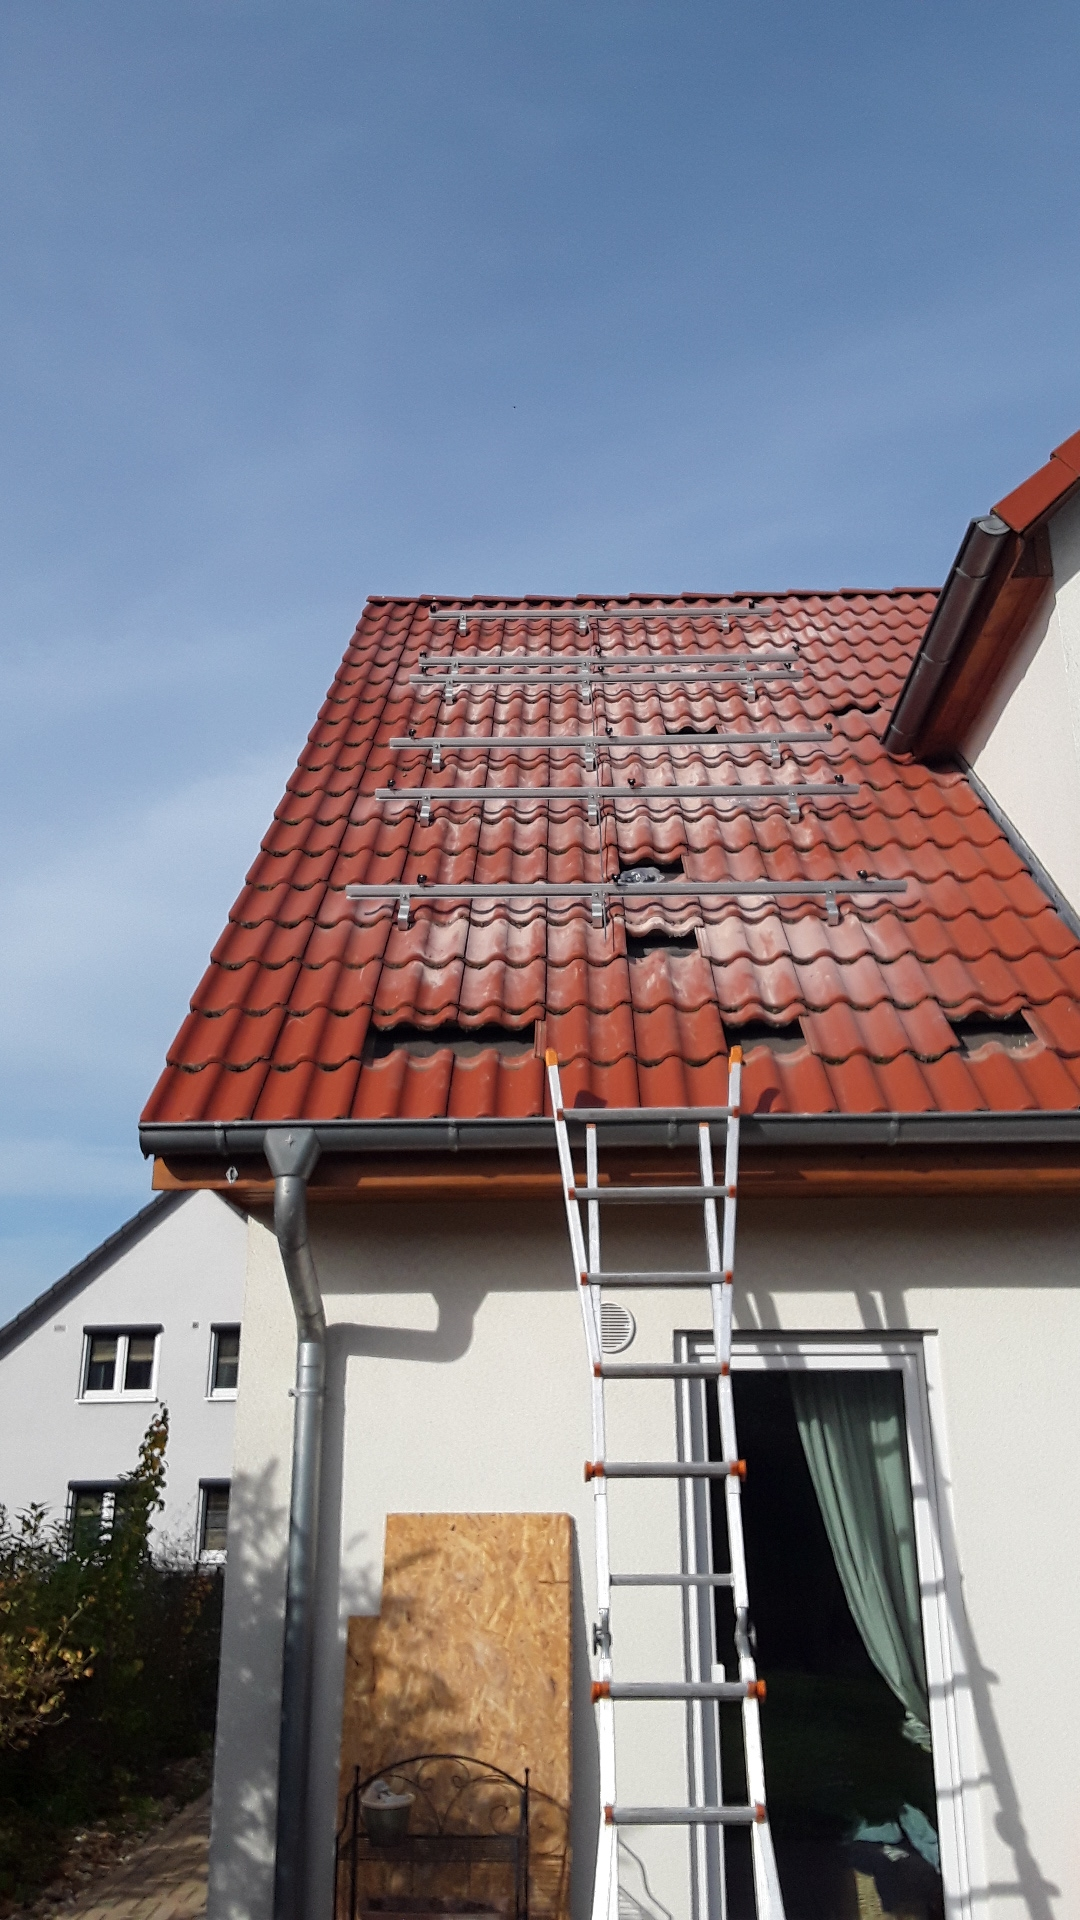hook: (397, 891, 409, 930), (825, 886, 837, 924), (789, 789, 800, 823), (592, 890, 603, 927), (587, 793, 597, 825), (419, 795, 430, 827), (771, 737, 781, 767), (444, 676, 454, 705), (746, 674, 756, 702), (433, 741, 440, 771), (585, 741, 593, 771), (582, 676, 589, 704), (459, 613, 465, 636), (579, 613, 585, 636), (723, 611, 729, 633), (582, 659, 589, 674), (451, 659, 458, 673), (740, 659, 746, 671)
